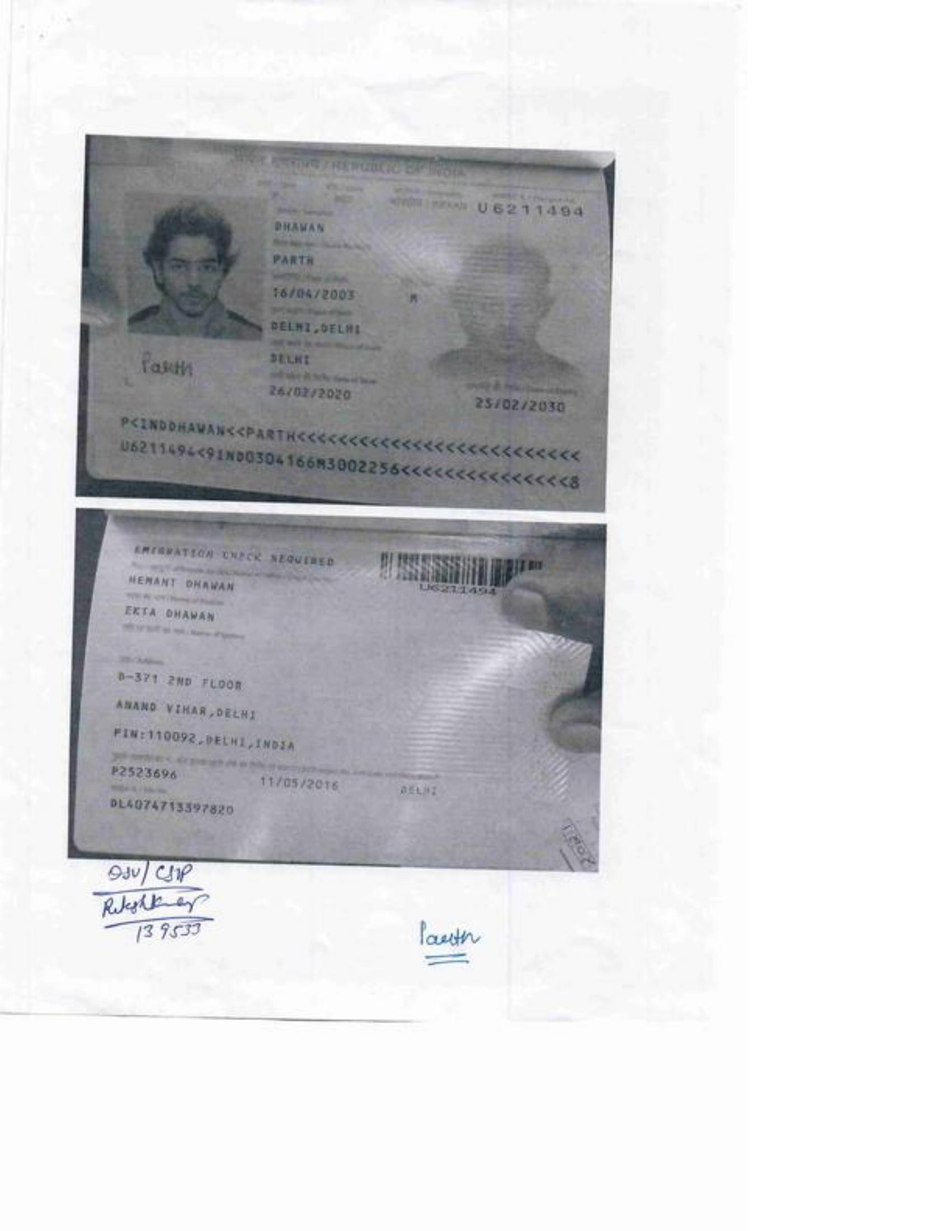DOB: (261, 280, 366, 307)
File_no: (104, 796, 243, 825)
address: (106, 664, 303, 763)
country_code: (326, 189, 361, 209)
date_of_expiry: (463, 391, 577, 418)
date_of_issue: (263, 379, 364, 407)
details: (104, 408, 588, 500)
father_name: (124, 571, 259, 594)
mother_name: (107, 593, 230, 631)
name: (261, 218, 379, 276)
nationality: (383, 190, 469, 217)
old_passport_details: (96, 763, 457, 799)
passport_no: (467, 195, 592, 223), (414, 577, 504, 601)
photo: (129, 194, 261, 334)
place_of_birth: (265, 313, 372, 339)
place_of_issue: (269, 347, 317, 371)
sex: (394, 287, 432, 313)
sign: (129, 344, 203, 388)
type: (265, 185, 293, 209)
